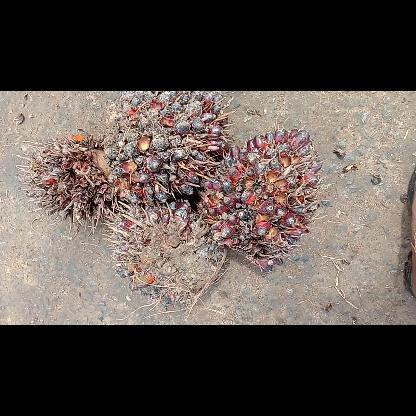TBS abnormal: (198, 128, 324, 270), (104, 91, 234, 204), (103, 201, 226, 308), (17, 133, 118, 235)
